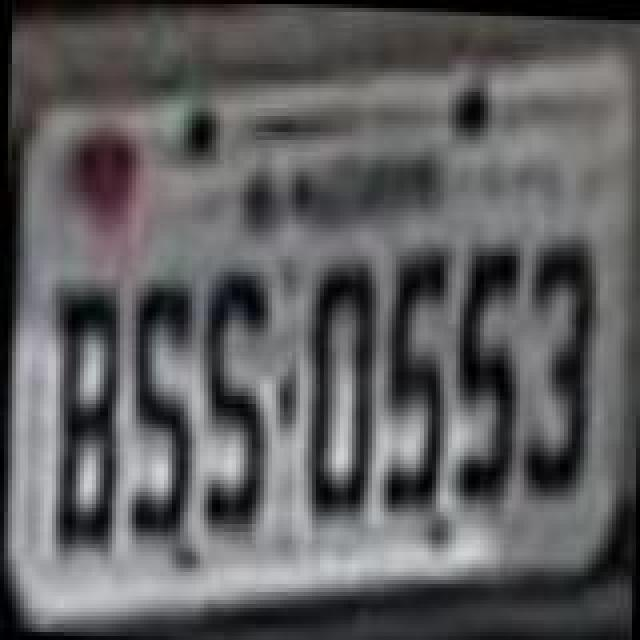3: (518, 228, 598, 504)
5: (378, 242, 450, 518), (450, 234, 522, 510)
B: (44, 286, 124, 562)
O: (304, 258, 380, 518)
S: (194, 266, 274, 534), (122, 278, 198, 546)
